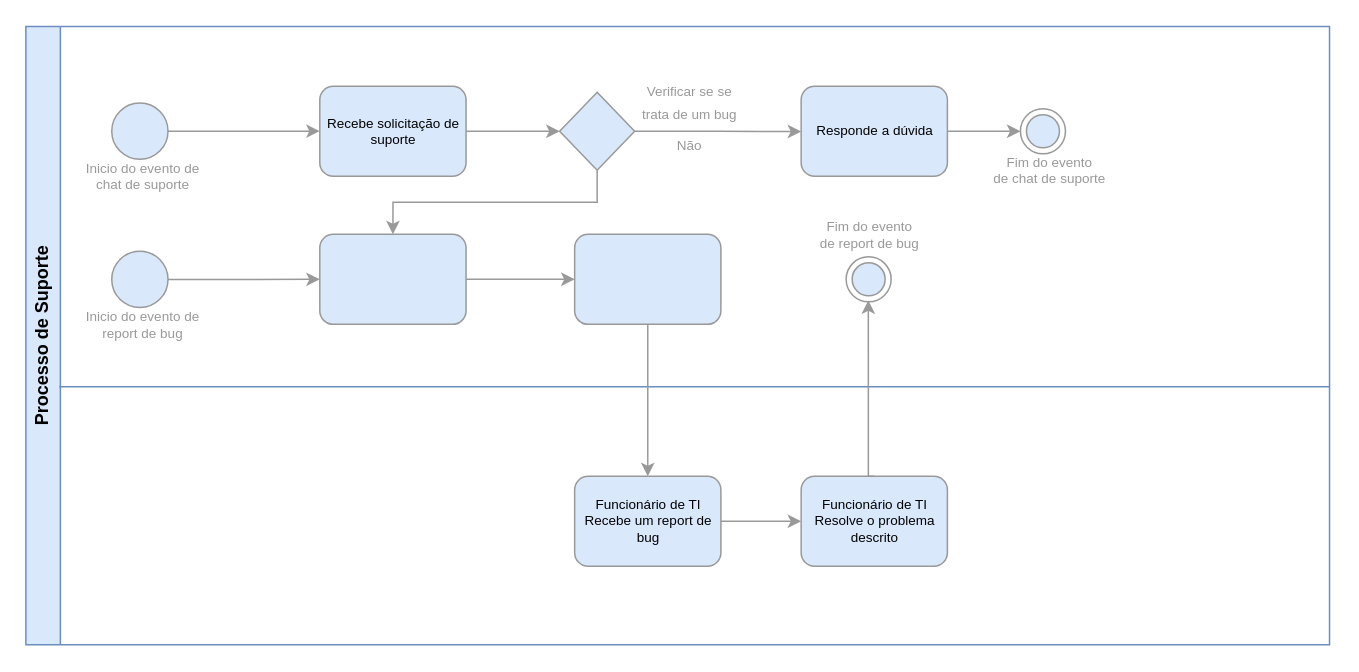
The diagram is 1359 pixels wide and 672 high, and some of its shapes have lost their labels. The centre of each missing label's shape, as x and y in pixels:
Cria um report de bug: pixel 392 278
Envia o report para o TI.: pixel 647 278
